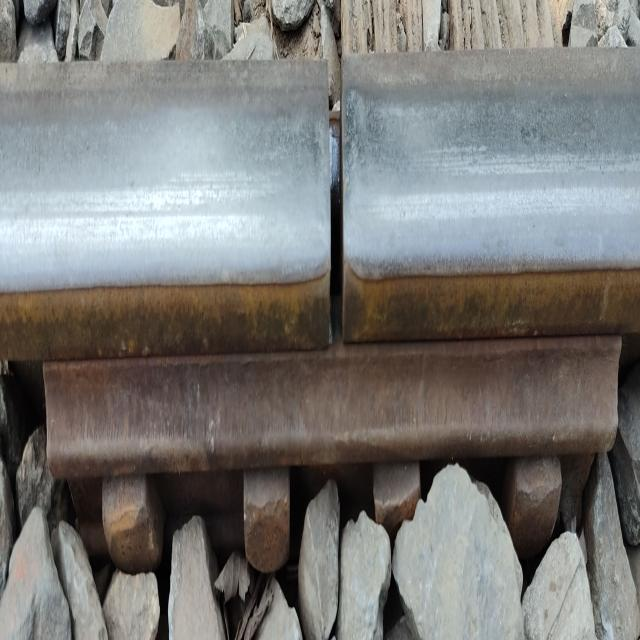Good Joint: (42, 329, 625, 560)
